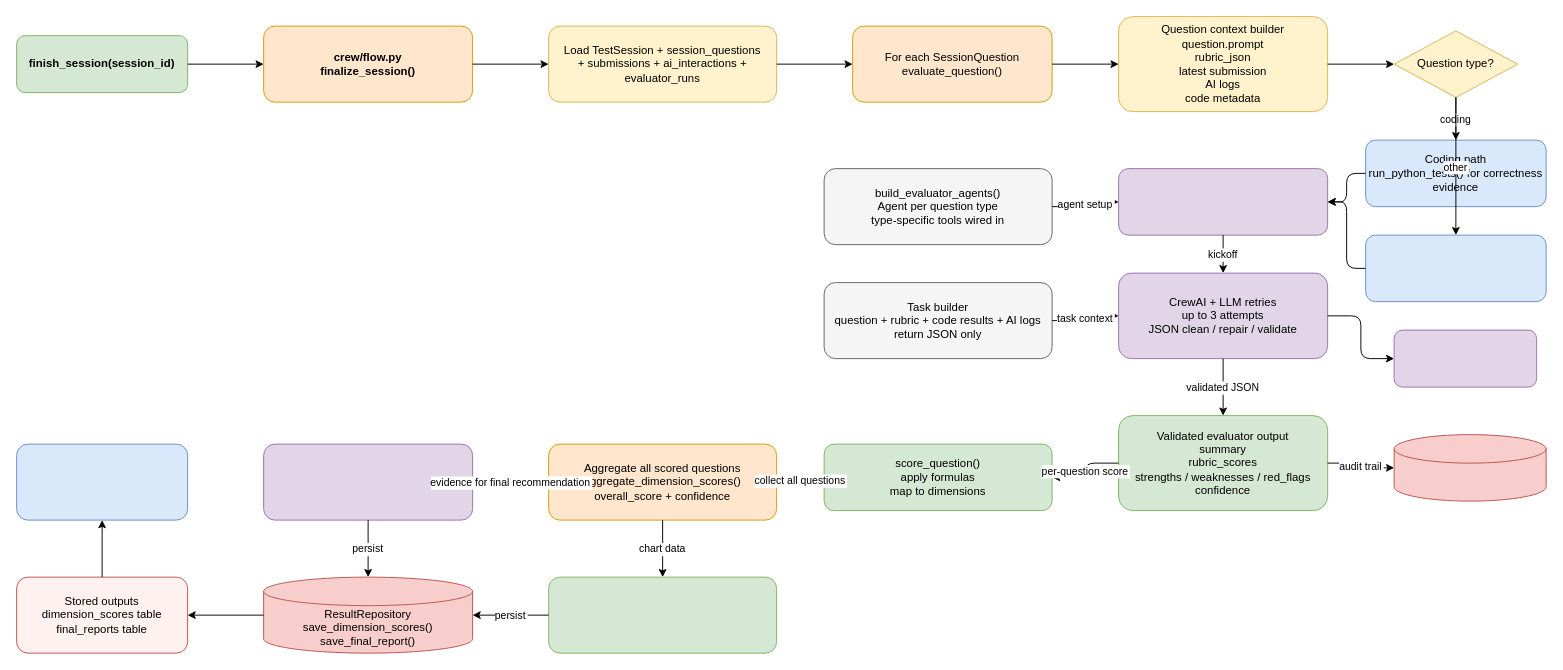
This 1563x670 diagram has some shape labels left out. Each missing label, with the box of its shape:
build_chart_payload() labels / scores / confidences strengths / weaknesses: (548, 576, 777, 653)
Local vLLM endpoint OpenAI-compatible model: (1393, 329, 1537, 387)
Non-coding path use stored text + AI evidence only: (1365, 234, 1546, 302)
Results API / Audit API read these records: (16, 443, 188, 520)
run_crewai_evaluation(question.type, context): (1118, 168, 1328, 235)
run_crewai_synthesis() final recommendation + summary: (263, 443, 473, 520)
save_evaluator_output() replace prior evaluator_runs for question: (1393, 434, 1546, 501)
